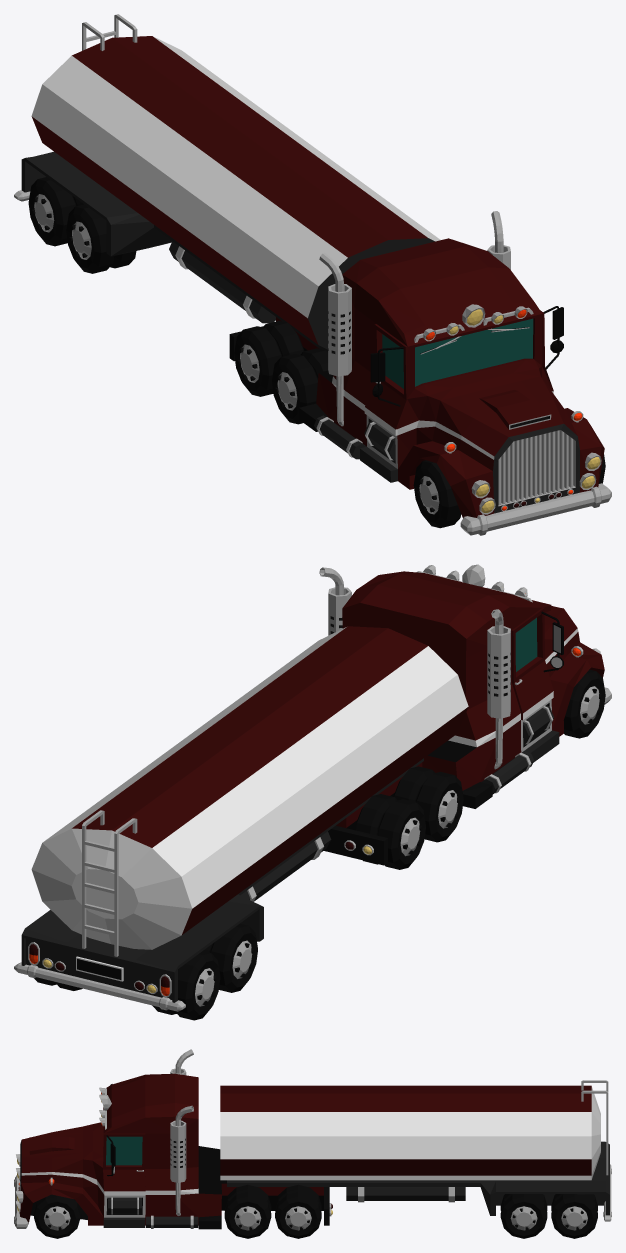
The model's file is TankTruck.FBX.
3 renders of one model, top to bottom at view 1: azimuth 30°, elevation 25°; view 2: azimuth 150°, elevation 25°; view 3: azimuth 270°, elevation 25°, orthographic. The views are drawn at different scales.
Visible parts, largest first — view 1: trailer, TankTruck, exhausts, wheels_m2_r, interieur, wheels_m1_r, wheels_b1_r, bumper_f, wheels_b2_r, wheel_f_r, lights, mirrors (+1 smaller); view 2: trailer, TankTruck, exhausts, wheels_m2_r, wheels_m1_r, wheels_b2_r, wheels_b1_r, wheel_f_r, bumper_b, lights, mirrors; view 3: trailer, TankTruck, wheels_m1_l, wheels_m2_l, wheels_b1_l, wheels_b2_l, wheel_f_l, exhausts, lights, interieur, bumper_f.
Boxes of the visible parts, x1,y1,x2,y2 form: trailer: [21, 14, 440, 352]; TankTruck: [229, 238, 604, 518]; exhausts: [319, 211, 510, 426]; wheels_m2_r: [234, 321, 304, 396]; interieur: [382, 319, 533, 387]; wheels_m1_r: [272, 348, 328, 424]; wheels_b1_r: [66, 204, 136, 273]; bumper_f: [460, 483, 611, 535]; wheels_b2_r: [28, 177, 83, 246]; wheel_f_r: [413, 460, 461, 528]; lights: [423, 304, 601, 514]; mirrors: [370, 306, 563, 406]; trailer: [21, 626, 468, 1002]; TankTruck: [324, 571, 604, 865]; exhausts: [319, 567, 510, 769]; wheels_m2_r: [355, 794, 425, 869]; wheels_m1_r: [393, 766, 463, 842]; wheels_b2_r: [152, 951, 220, 1020]; wheels_b1_r: [203, 923, 257, 992]; wheel_f_r: [563, 669, 605, 738]; bumper_b: [14, 962, 185, 1011]; lights: [344, 564, 600, 855]; mirrors: [541, 611, 563, 672]; trailer: [220, 1080, 609, 1215]; TankTruck: [19, 1073, 329, 1229]; wheels_m1_l: [224, 1184, 271, 1238]; wheels_m2_l: [275, 1184, 321, 1238]; wheels_b1_l: [500, 1194, 547, 1238]; wheels_b2_l: [551, 1194, 597, 1238]; wheel_f_l: [34, 1194, 80, 1238]; exhausts: [170, 1049, 193, 1215]; lights: [16, 1087, 331, 1216]; interieur: [106, 1136, 142, 1200]; bumper_f: [14, 1175, 28, 1228].
Size of the model in its own units: 42.01 by 42.09 by 168.
